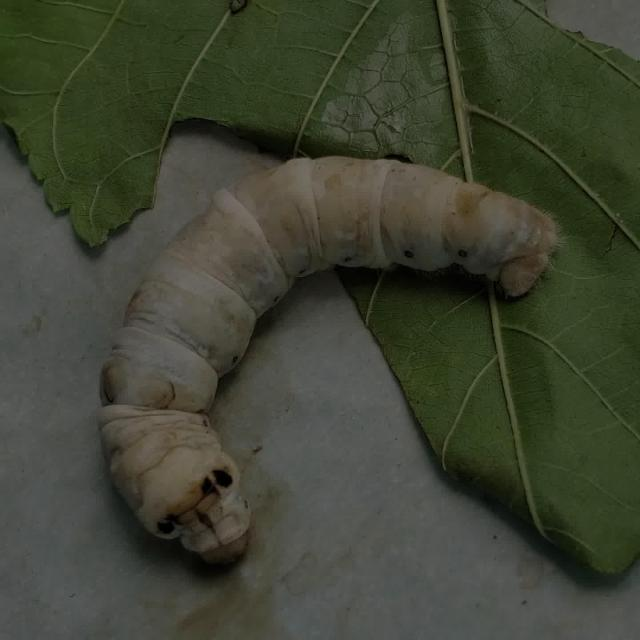Grasserie: (76, 121, 578, 602)
